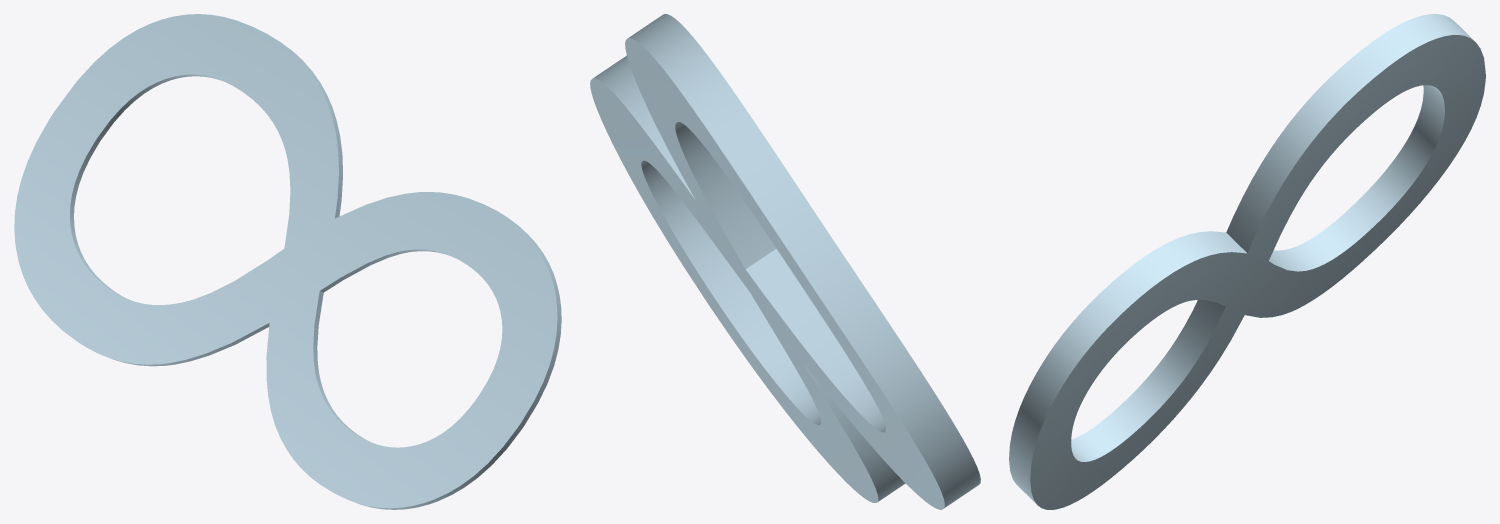
The model's file is Number_8.gltf.
3 renders of one model, left to right at view 1: azimuth 30°, elevation 25°; view 2: azimuth 150°, elevation 25°; view 3: azimuth 270°, elevation 25°, orthographic. The views are drawn at different scales.
Visible parts, largest first — view 1: Sub_1_Cell_3_3_Number_8; view 2: Sub_1_Cell_3_3_Number_8; view 3: Sub_1_Cell_3_3_Number_8.
Boxes of the visible parts, x1,y1,x2,y2 form: Sub_1_Cell_3_3_Number_8: (14,14,561,509); Sub_1_Cell_3_3_Number_8: (590,14,980,509); Sub_1_Cell_3_3_Number_8: (1009,14,1485,509).
Size of the model in its own units: 0.0203 by 0.0203 by 0.0193.
